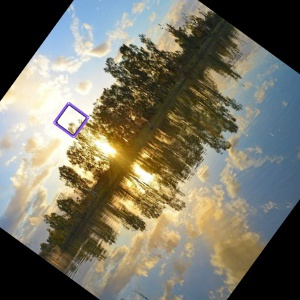square: (51, 100, 91, 139)
